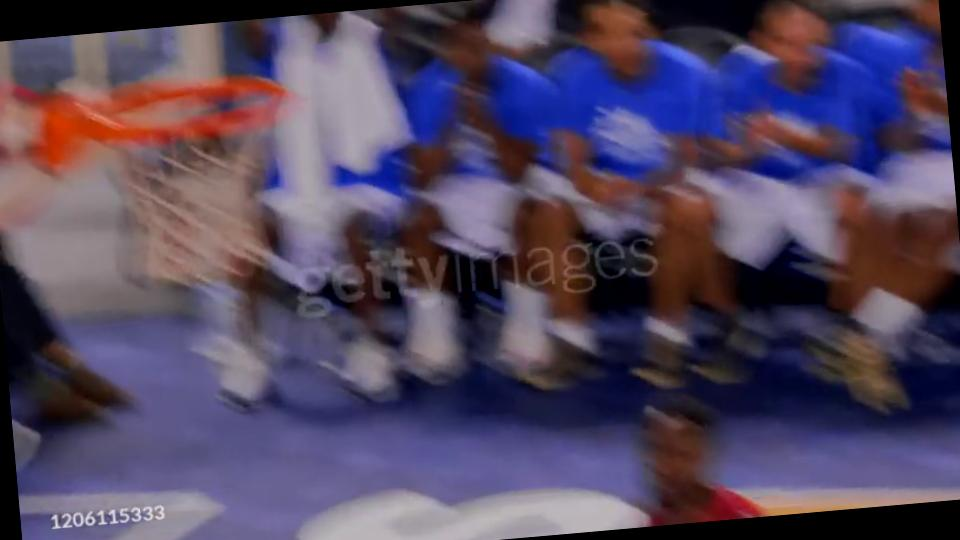hoop: (30, 70, 292, 170)
